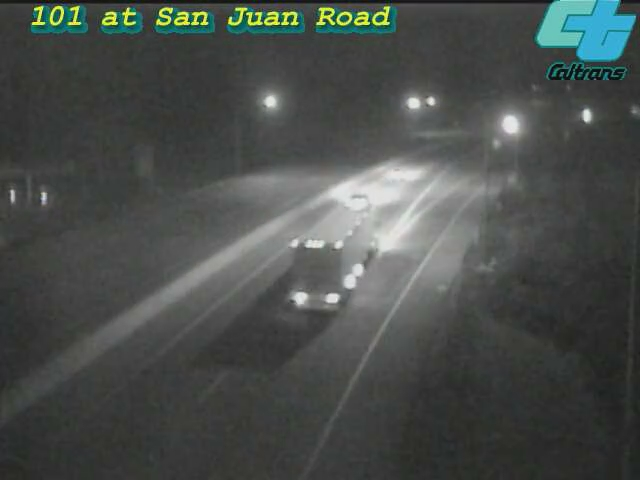vehicle: (357, 134, 437, 214), (320, 160, 400, 240), (290, 215, 370, 295), (485, 100, 535, 150), (556, 92, 606, 142)
